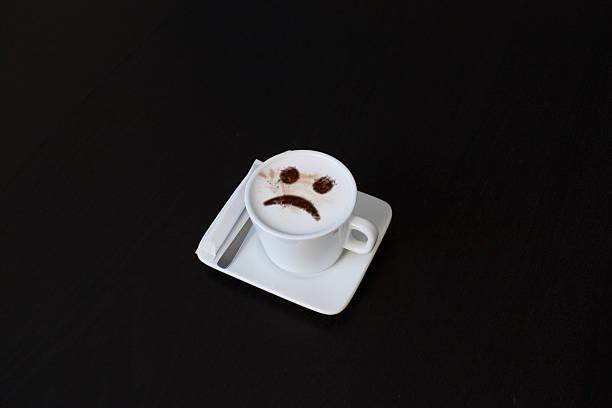cup-handle: (243, 148, 380, 275)
